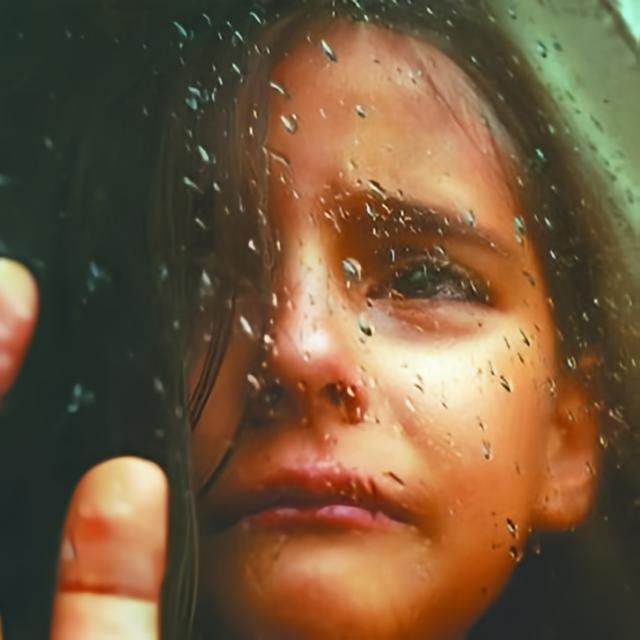sad: (168, 27, 562, 640)
